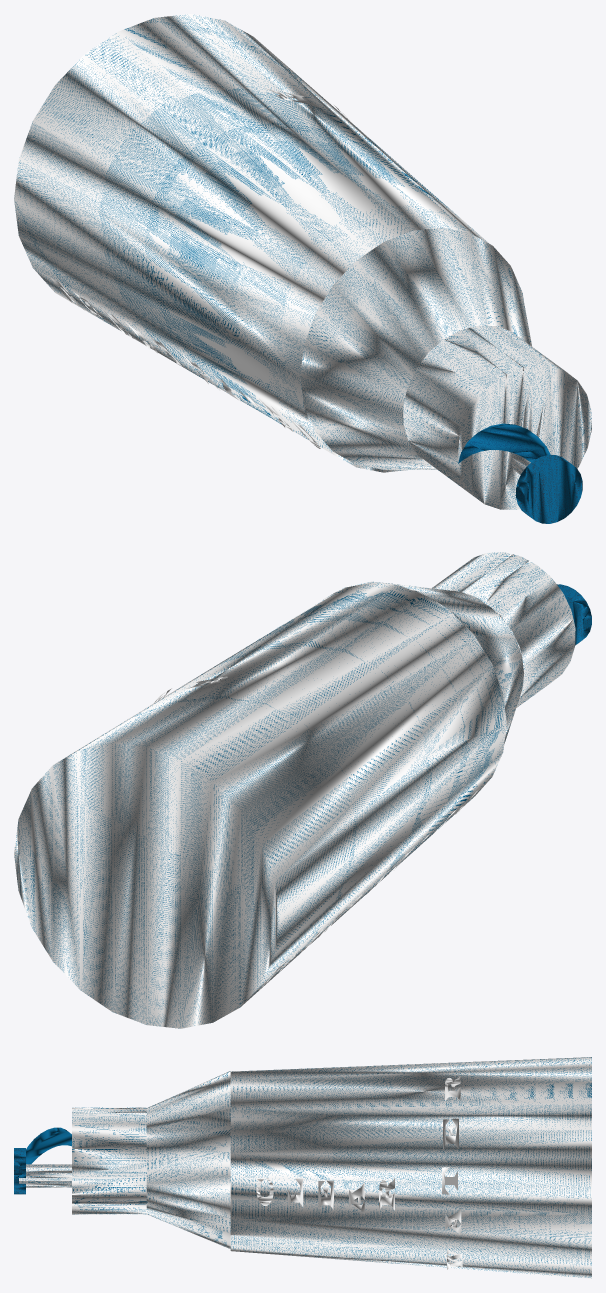
Rendered from model_align.obj.
3 renders of one model, top to bottom at view 1: azimuth 30°, elevation 25°; view 2: azimuth 150°, elevation 25°; view 3: azimuth 270°, elevation 25°, orthographic. The views are drawn at different scales.
Bounding box in the file's own units: 0.0769 × 0.0769 × 0.1995.
